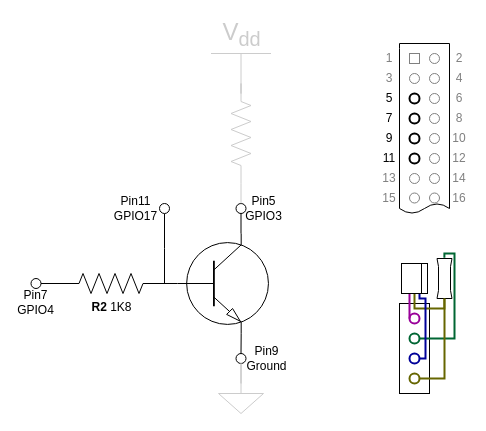
Some shapes in this 486 by 431 pixel diagram are drawn without their labels. Each missing label, with the centre of its shape:
"RPi Internal Resistor R1 1K8" goes at point (240, 133).
"T1 S9018" goes at point (222, 283).
